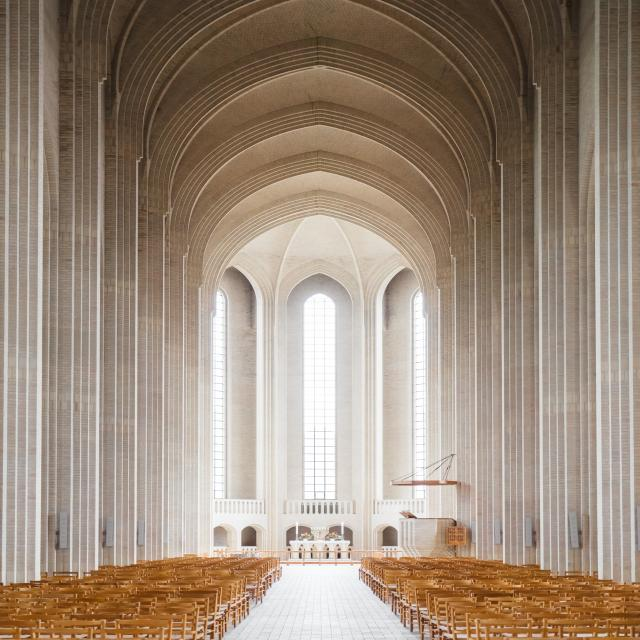Glass: (204, 268, 429, 512)
